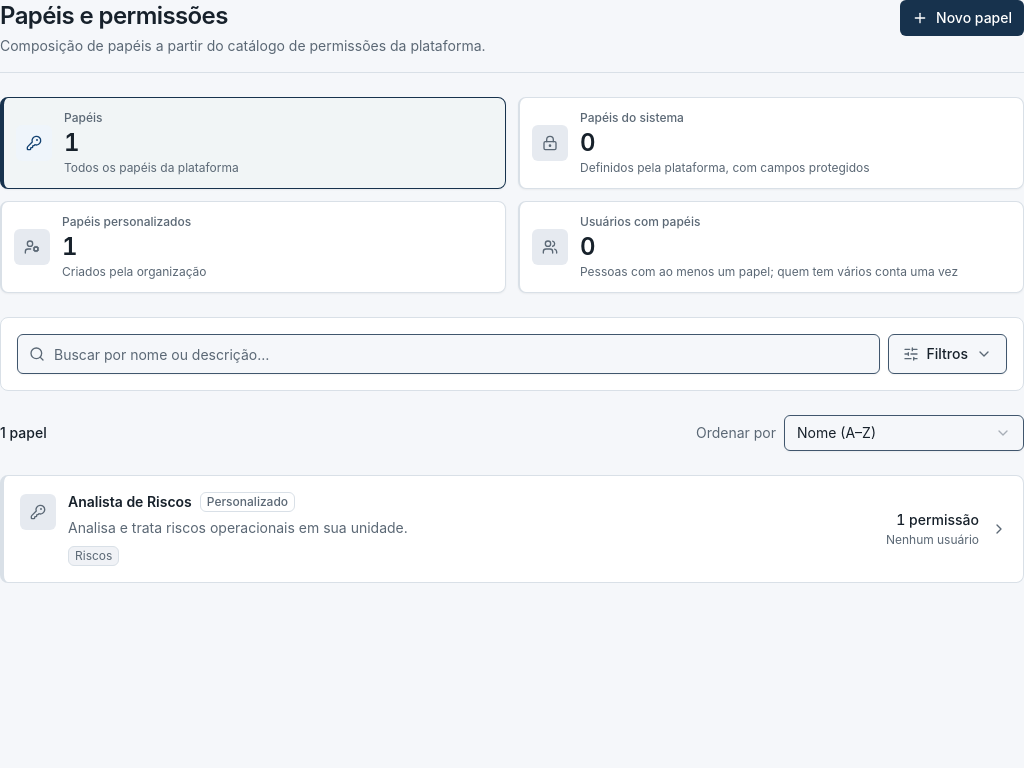
RoleAdminView — detail panel › states the real authorization model and never suggests inheritance (SC-003)
Click the button named "Abrir detalhes do papel Analista de Riscos" at (178, 503), box x1=0 y1=475 x2=1023 y2=583
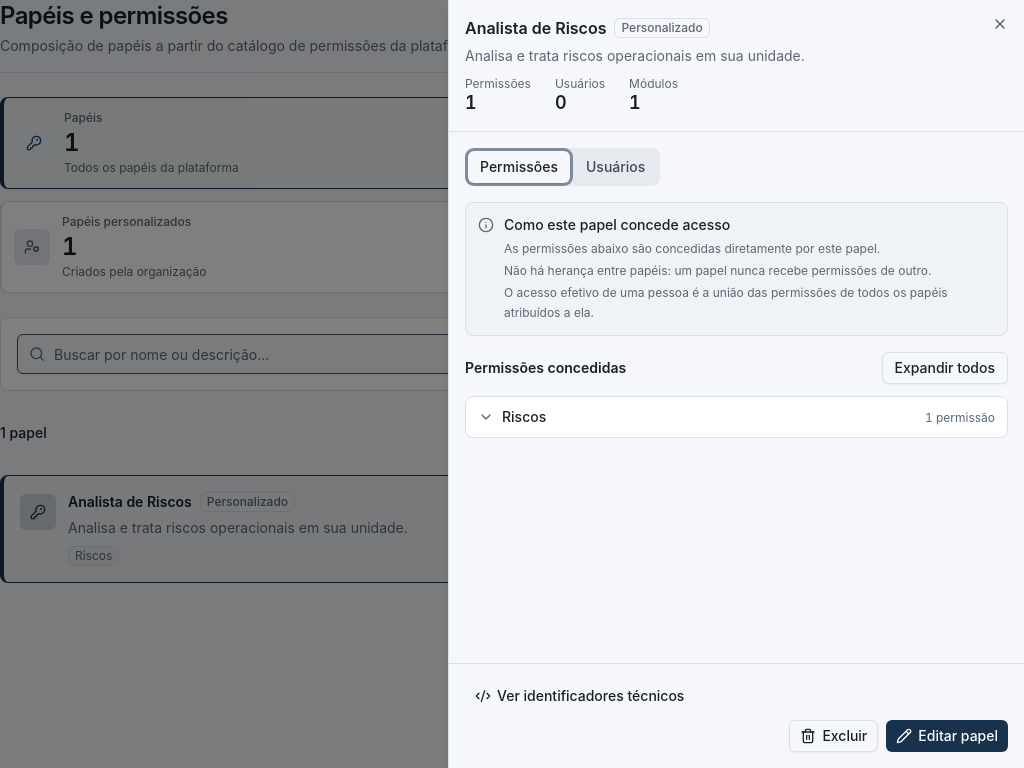
expect the list item "Não há herança entre papéis: um papel nunca recebe permissões de outro." is shown: met, box x1=504 y1=260 x2=995 y2=280
